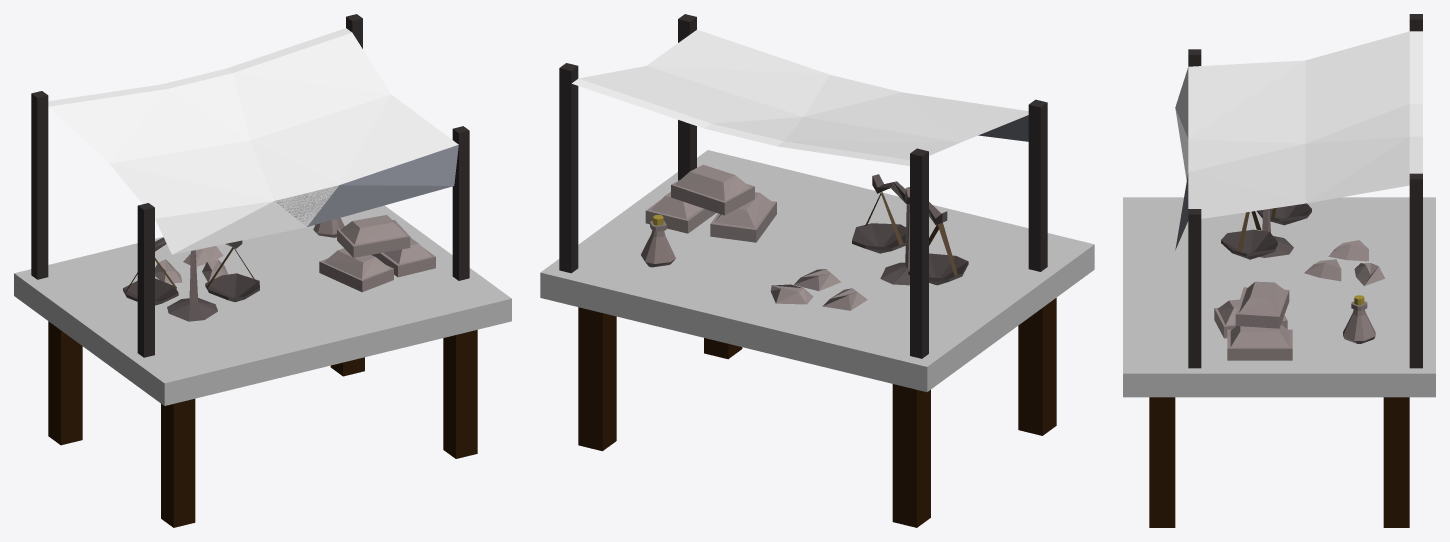
File: silver_stall_8.obj
The picture shows the model from 3 angles, left to right: view 1: azimuth 30°, elevation 25°; view 2: azimuth 150°, elevation 25°; view 3: azimuth 270°, elevation 25°; orthographic projection. The views are drawn at different scales.
Visible parts, largest first — view 1: 1493; view 2: 1493; view 3: 1493.
Boxes of the visible parts, x1,y1,x2,y2 form: 1493: (14, 14, 511, 527); 1493: (540, 14, 1094, 527); 1493: (1123, 14, 1435, 527).
Size of the model in its own units: 256 by 240 by 192.
